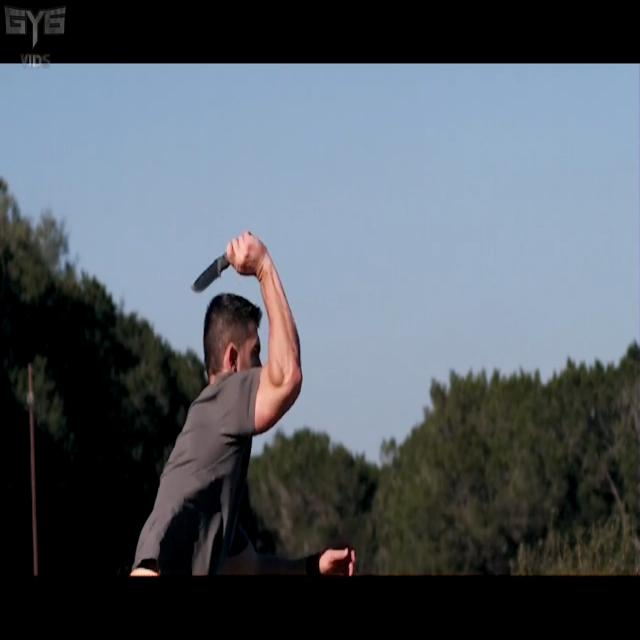knife: (188, 257, 229, 298)
